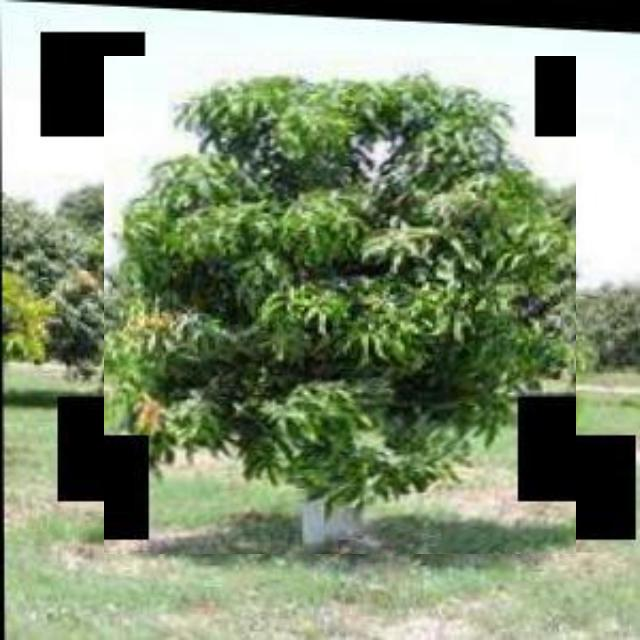tree: (104, 56, 576, 554)
